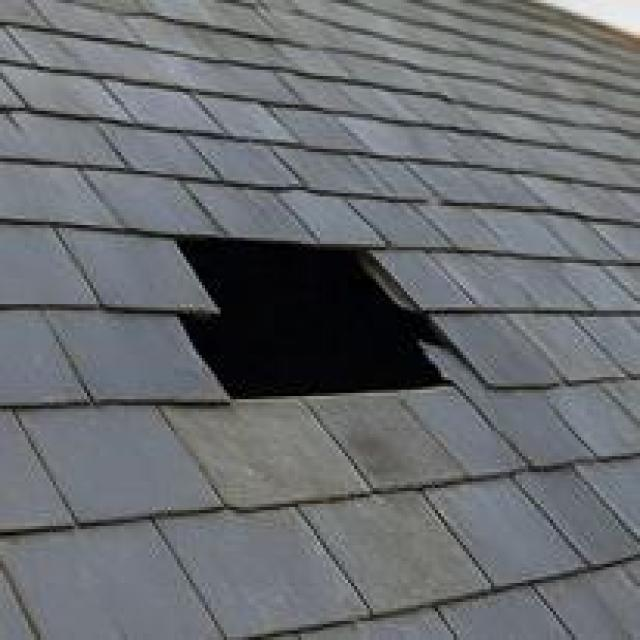trou: (158, 225, 462, 407)
